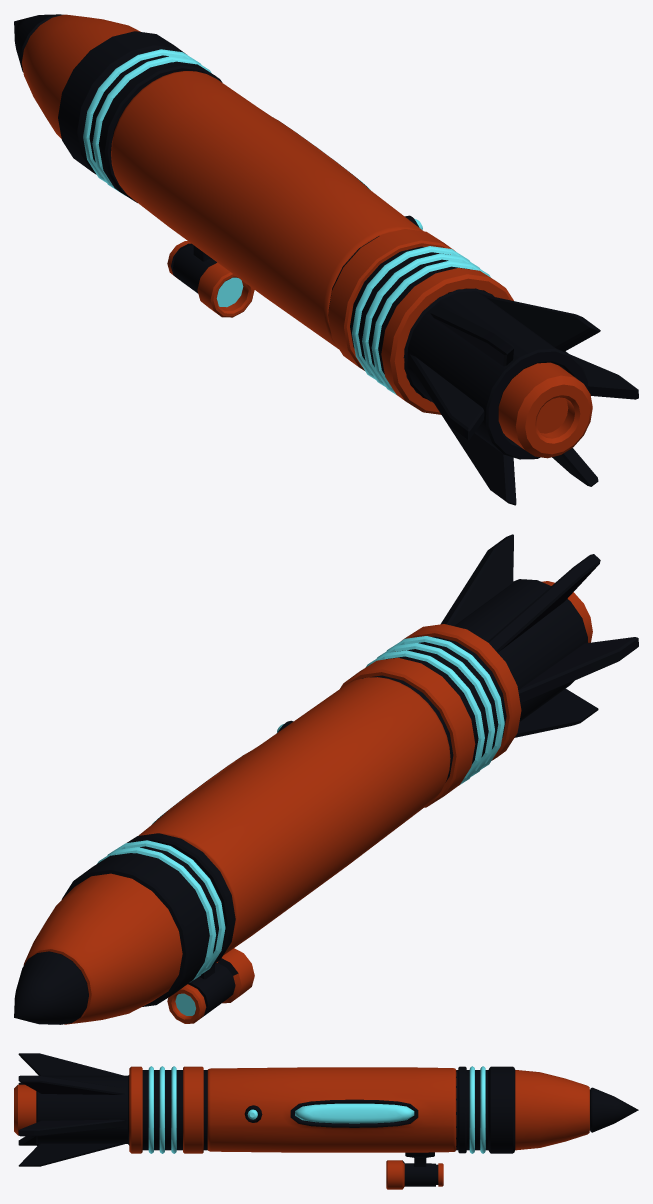
File: RPGB01.fbx
The picture shows the model from 3 angles, top to bottom: view 1: azimuth 30°, elevation 25°; view 2: azimuth 150°, elevation 25°; view 3: azimuth 270°, elevation 25°; orthographic projection. The views are drawn at different scales.
Visible parts, largest first — view 1: Rocket02, Cylinder058, Cylinder065, Cylinder061, Cylinder063, Cylinder062; view 2: Rocket02, Cylinder058, Cylinder061, Cylinder063, Cylinder062; view 3: Rocket02, Cylinder058, Cylinder063, Cylinder061, Cylinder062, Cylinder065, Cylinder064.
Part boxes in pixels (box(x1,y1,x2,y2)): Rocket02: box(111, 71, 638, 505); Cylinder058: box(14, 14, 513, 414); Cylinder065: box(498, 362, 592, 458); Cylinder061: box(352, 246, 490, 394); Cylinder063: box(167, 241, 254, 317); Cylinder062: box(83, 49, 211, 195); Rocket02: box(138, 534, 638, 955); Cylinder058: box(14, 624, 521, 1024); Cylinder061: box(365, 636, 504, 785); Cylinder063: box(167, 948, 254, 1023); Cylinder062: box(97, 840, 225, 981); Rocket02: box(18, 1053, 456, 1166); Cylinder058: box(129, 1066, 638, 1153); Cylinder063: box(386, 1152, 443, 1189); Cylinder061: box(148, 1066, 176, 1153); Cylinder062: box(469, 1066, 485, 1153); Cylinder065: box(14, 1084, 36, 1135); Cylinder064: box(244, 1105, 262, 1122).
Size of the model in its own units: 51.28 by 61.58 by 282.
